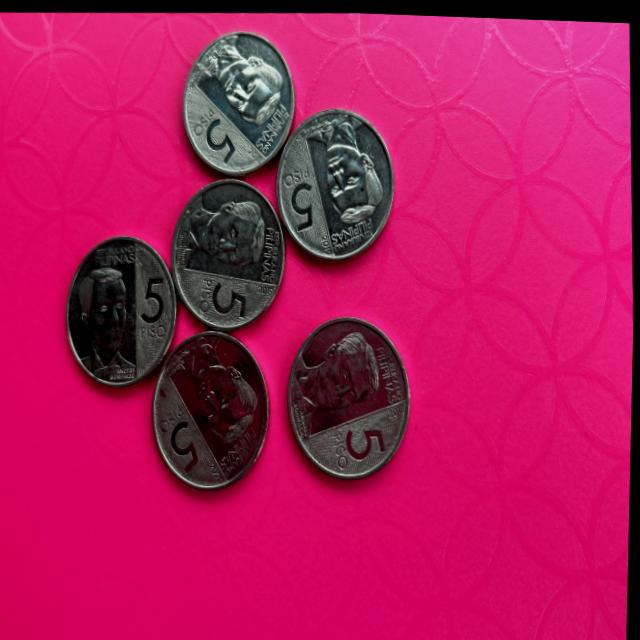5_New_Front: (145, 397, 209, 481), (318, 410, 394, 474), (279, 164, 326, 250), (182, 100, 239, 170), (186, 272, 262, 323), (136, 269, 175, 344)
